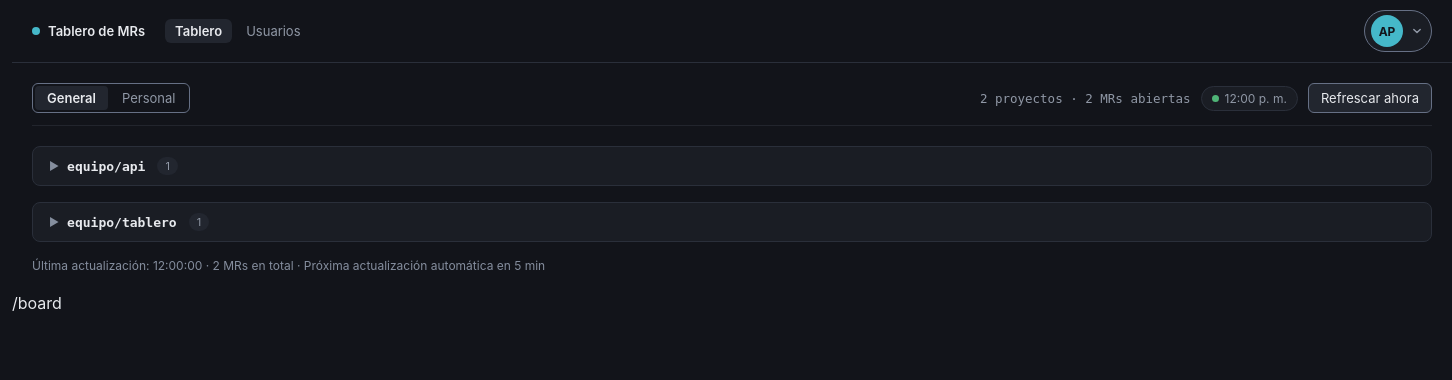
Test case: vista personal de un administrador › muestra sólo las tareas donde la persona es responsable
Click the button "Personal" at (149, 98), box [110,86,188,110]
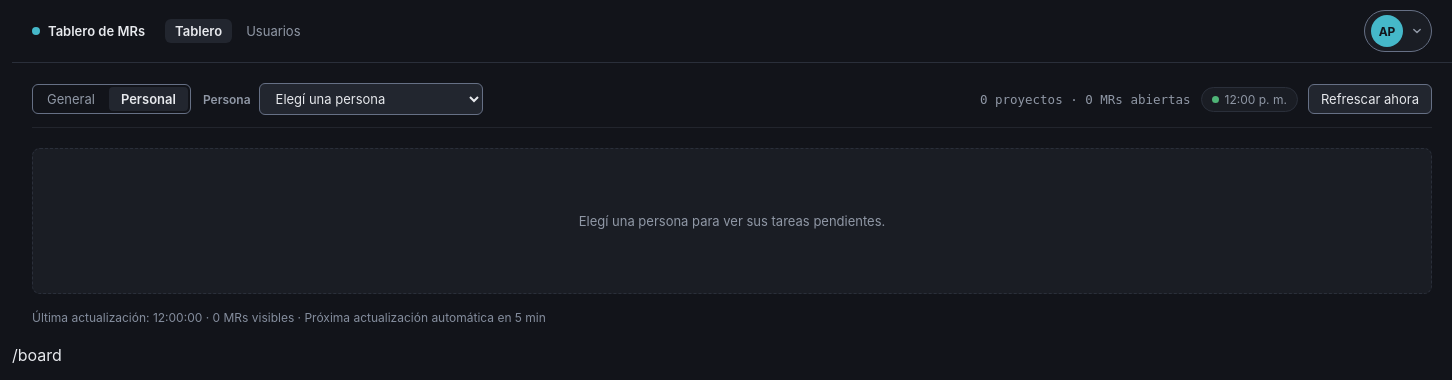
Select "Ana Pérez (@ana)" in the dropdown labelled "Persona" at (371, 99), box [259,83,483,115]
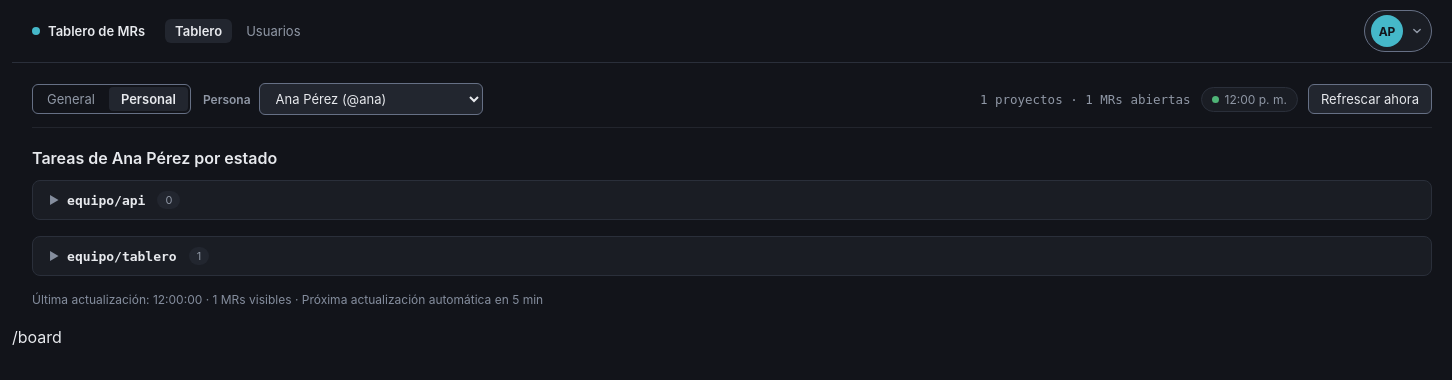
Now the heading "Tareas de Ana Pérez por estado" is shown, box [32,148,277,168]
Now the text "equipo/tablero" is shown, box [67,248,177,264]
Now the text "1 MRs visibles" is shown, box [32,292,543,307]
